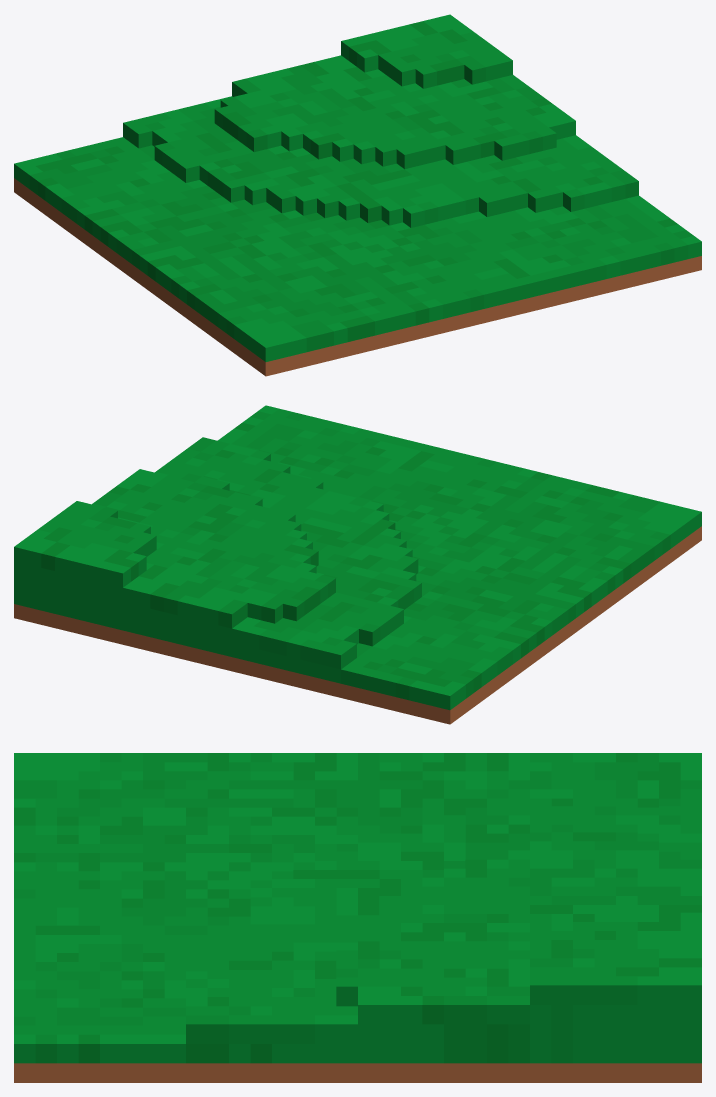
The model's file is forest-uneven-edge-outer-1.gltf.
The picture shows the model from 3 angles, top to bottom: view 1: azimuth 30°, elevation 25°; view 2: azimuth 150°, elevation 25°; view 3: azimuth 270°, elevation 25°; orthographic projection. The views are drawn at different scales.
Parts seen in each view (by area): view 1: forest-uneven-edge-outer-1; view 2: forest-uneven-edge-outer-1; view 3: forest-uneven-edge-outer-1.
Part boxes in pixels (left/top/right/bottom): forest-uneven-edge-outer-1: left=14, top=14, right=701, bottom=376; forest-uneven-edge-outer-1: left=14, top=405, right=701, bottom=724; forest-uneven-edge-outer-1: left=14, top=753, right=701, bottom=1082.
Size of the model in its own units: 3.2 by 0.5 by 3.2.
Materials: 1 (1 with a texture image).
